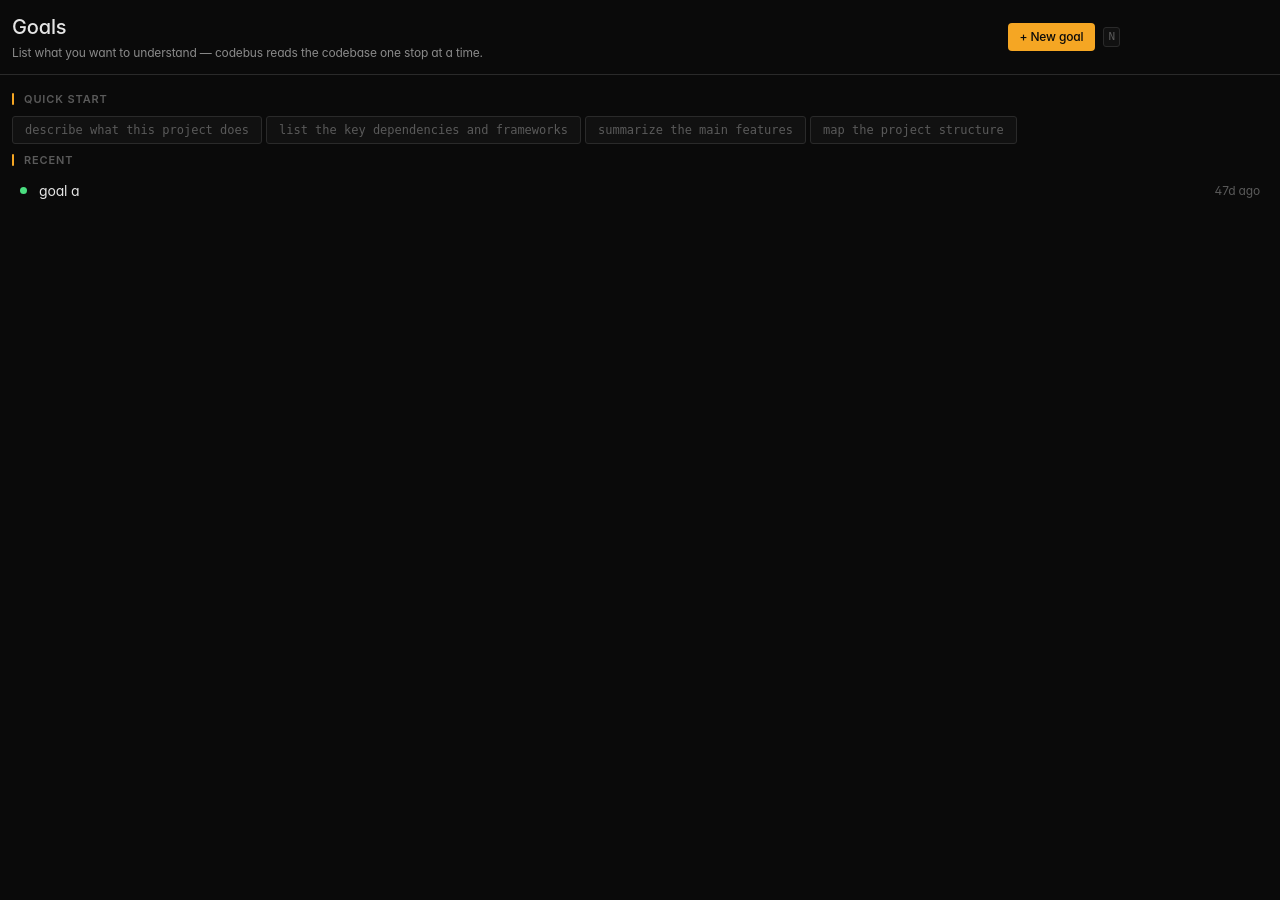
Test case: GoalsTab › GoalsTab_populated_shows_persistent_quickstart_above_RECENT
Expected: the element with test id "goals-quickstart" is shown, [12, 92, 1017, 144]
Expected: the element with test id "goals-quickstart" shows "Quick start", [24, 92, 108, 106]
Clicking a chip opens the modal pre-filled with that example.
What coordinates should you click on to do the following:
click the button with test id "^goals-quickstart-chip-"
I would click on:
 (137, 130)
Its box is [12, 116, 262, 144].
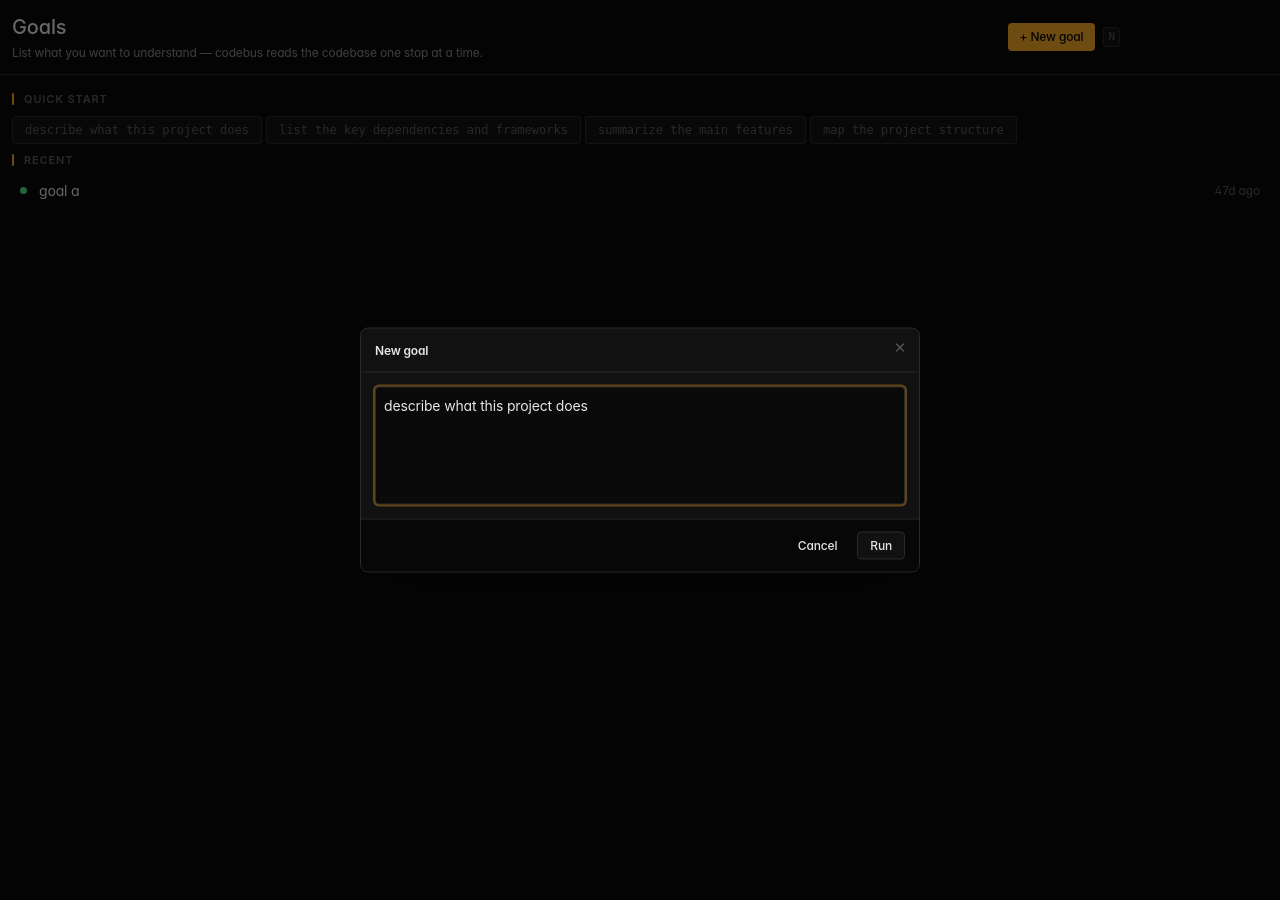
Now the dialog with test id "new-goal-modal" is shown, box [360, 328, 920, 572]
Now the text box with test id "new-goal-textarea" holds "describe what this project does", box [375, 386, 905, 504]
